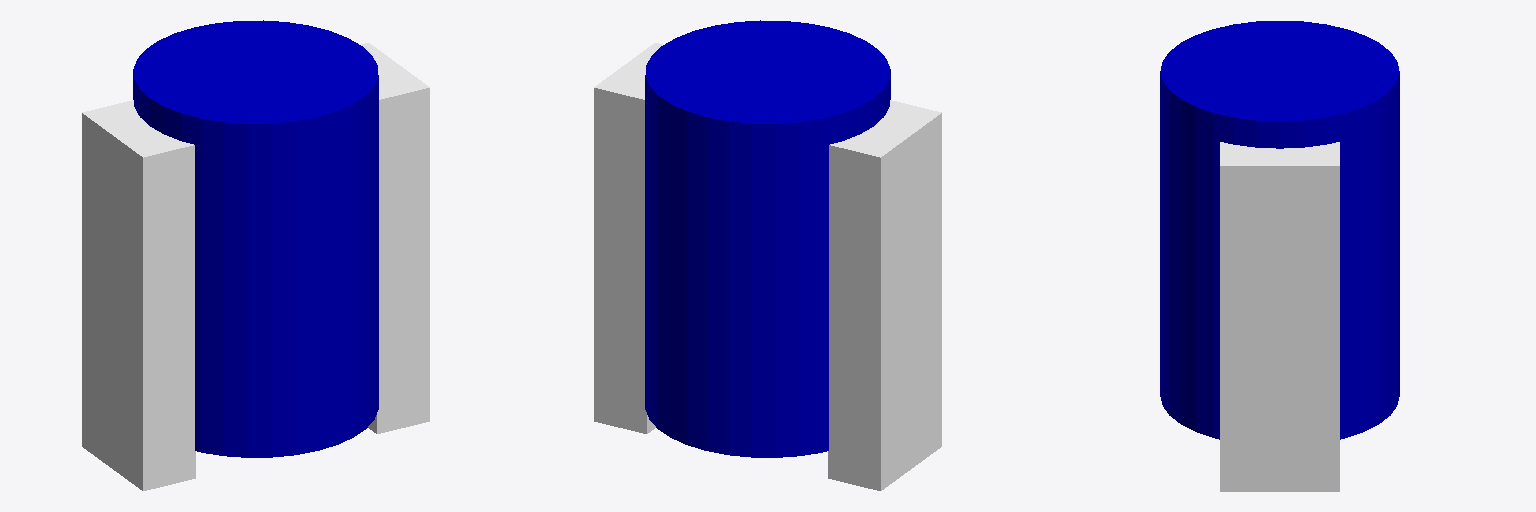
URDF robot description (simpleRobot):

<robot name="simpleRobot">
  <link name="base_link">
    <visual>
      <geometry>
        <cylinder length="0.6" radius="0.2"/>
      </geometry>
      <material name="blue">
        <color rgba="0 0 0.8 1"/>
      </material>
    </visual>
  </link>
  
  <link name="right_leg">
    <visual>
      <geometry>
        <box size="0.6 0.2 0.1"/>
      </geometry>
      <origin rpy="0 1.57075 0" xyz="0 0 -0.3"/>
      <material name="white">
        <color rgba="1 1 1 1"/>
      </material>
    </visual>
  </link>

  <joint name="base_to_right_leg" type="fixed">
    <parent link="base_link"/>
    <child link="right_leg"/>
    <origin xyz="0.22 0 0.25"/>
  </joint>

  <link name="left_leg">
    <visual>
      <geometry>
        <box size="0.6 0.2 0.1"/>
      </geometry>
      <origin rpy="0 1.57075 0" xyz="0 0 -0.3"/>
      <material name="white"/>
    </visual>
  </link>

  <joint name="base_to_left_leg" type="fixed">
    <parent link="base_link"/>
    <child link="left_leg"/>
    <origin xyz="-0.22 0 0.25"/>
  </joint>

</robot>

--- Render facts (derived) ---
The picture shows the robot from 3 angles, left to right: view 1: azimuth 30°, elevation 25°; view 2: azimuth 150°, elevation 25°; view 3: azimuth 270°, elevation 25°; orthographic projection.
Robot: simpleRobot — 3 links, 2 joints (2 fixed); root link base_link; default pose: all joints at 0.
Links seen in each view (by area): view 1: base_link, left_leg, right_leg; view 2: base_link, left_leg, right_leg; view 3: base_link, right_leg.
Boxes of the visible links, left/top/right/bottom form: base_link: left=133, top=20, right=378, bottom=457; left_leg: left=82, top=100, right=195, bottom=490; right_leg: left=361, top=43, right=429, bottom=433; base_link: left=645, top=20, right=890, bottom=457; left_leg: left=828, top=100, right=941, bottom=490; right_leg: left=594, top=43, right=662, bottom=433; base_link: left=1160, top=21, right=1399, bottom=439; right_leg: left=1220, top=142, right=1339, bottom=491.
Size in the robot's own frame: 0.54 by 0.4 by 0.65 metres.
Geometry: primitives only (box / cylinder / sphere), no mesh files.